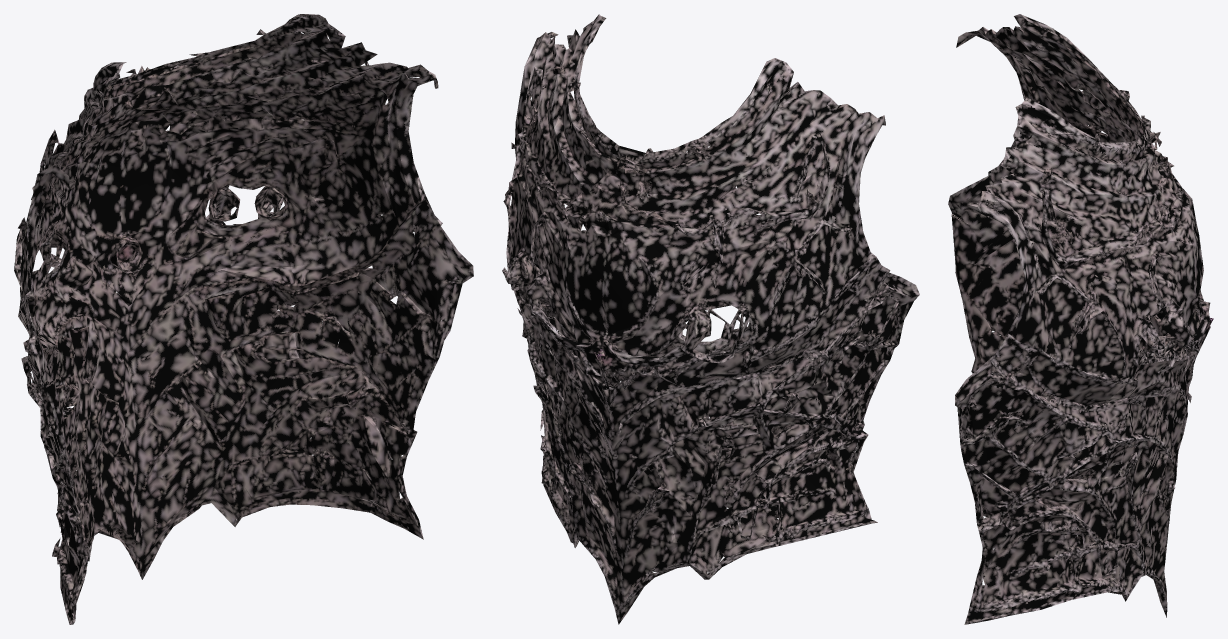
Rendered from vampire_chestplate_LOD1.glb.
3 views of the same model, side by side, from view 1: azimuth 30°, elevation 25°; view 2: azimuth 150°, elevation 25°; view 3: azimuth 270°, elevation 25° (orthographic). The views are drawn at different scales.
Parts seen in each view (by area): view 1: vampire_chestplate_LOD1; view 2: vampire_chestplate_LOD1; view 3: vampire_chestplate_LOD1.
Part boxes in pixels (left/top/right/bottom): vampire_chestplate_LOD1: left=14, top=14, right=473, bottom=624; vampire_chestplate_LOD1: left=502, top=14, right=919, bottom=624; vampire_chestplate_LOD1: left=948, top=14, right=1213, bottom=624.
Bounding box in the file's own units: 0.5915 × 0.7755 × 0.3329.
Materials: 1 (1 with a texture image).
